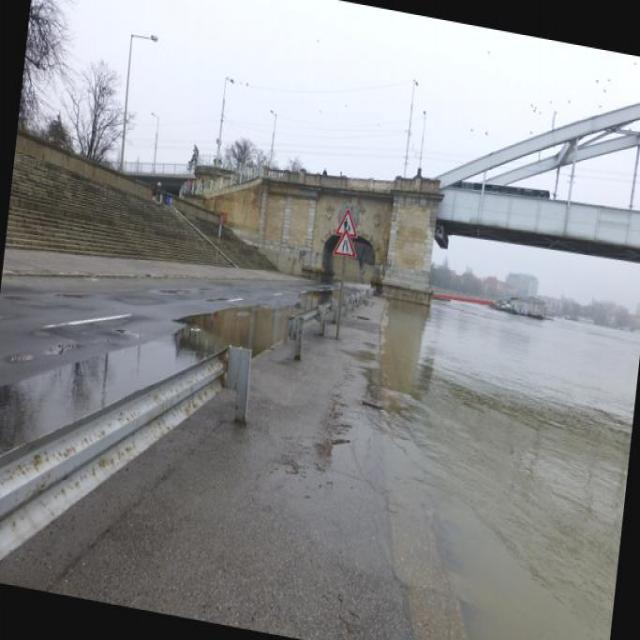flood: (339, 276, 639, 639)
